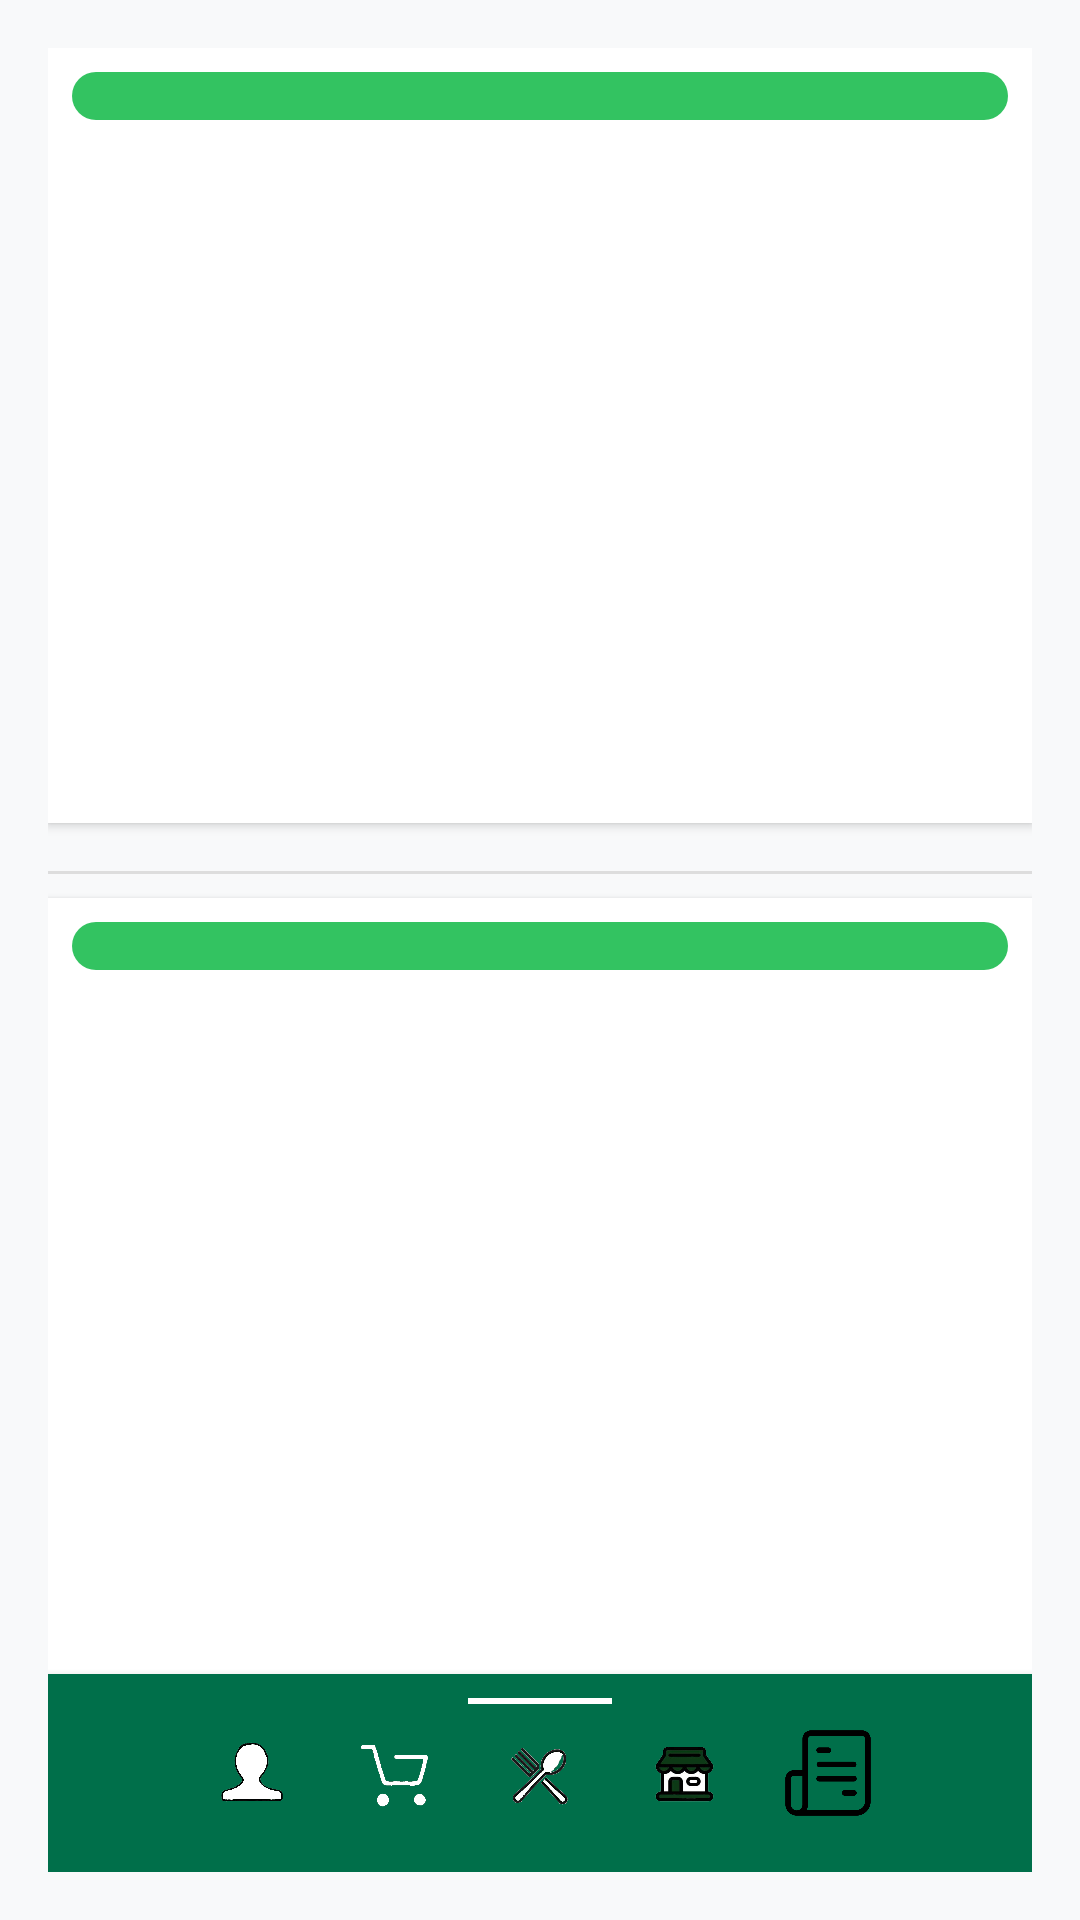

Icons on this 1080 × 1920 Android screen, each with the point to tap as point (x, y):
carrito: point (394, 1776)
Ordenes: point (828, 1773)
Perfil: point (252, 1772)
restaurantes: point (539, 1776)
Supermercado: point (684, 1774)
